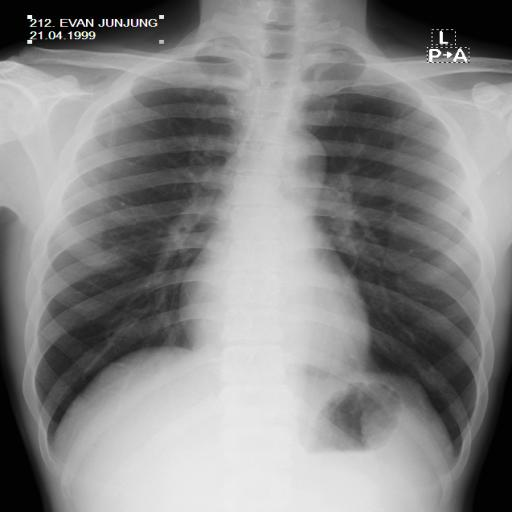normal: (22, 31, 502, 483)
